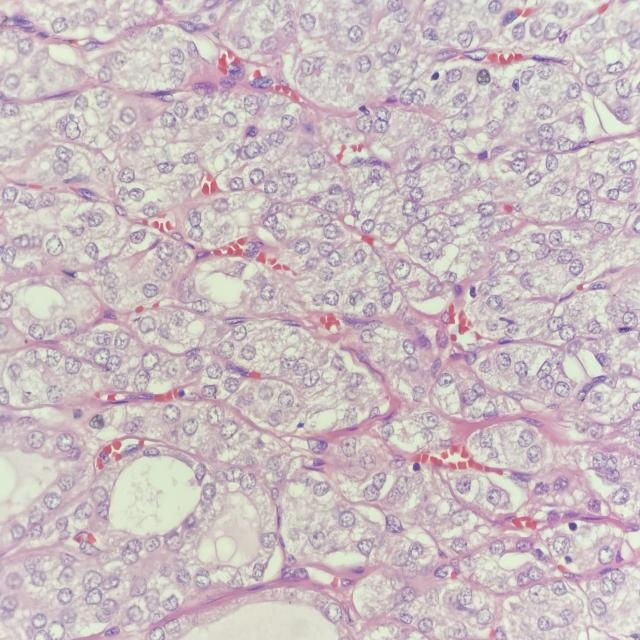TC: (255, 275, 282, 310), (481, 482, 510, 514), (137, 276, 165, 308), (178, 412, 203, 445), (205, 399, 229, 433), (374, 416, 399, 448), (342, 366, 370, 394), (270, 384, 299, 411), (354, 321, 380, 351), (302, 360, 326, 392), (380, 510, 407, 538), (288, 231, 315, 259), (455, 468, 478, 500), (336, 432, 361, 461), (136, 348, 162, 374), (224, 320, 254, 342), (512, 425, 534, 454), (183, 223, 208, 247), (309, 527, 332, 553), (380, 284, 401, 312), (310, 474, 334, 498), (396, 335, 421, 358), (409, 376, 430, 403), (348, 241, 369, 266), (243, 465, 261, 494), (319, 286, 341, 308), (336, 508, 356, 529)
